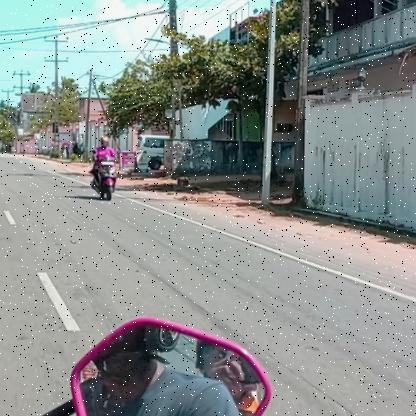motorcycle: (88, 152, 121, 202)
